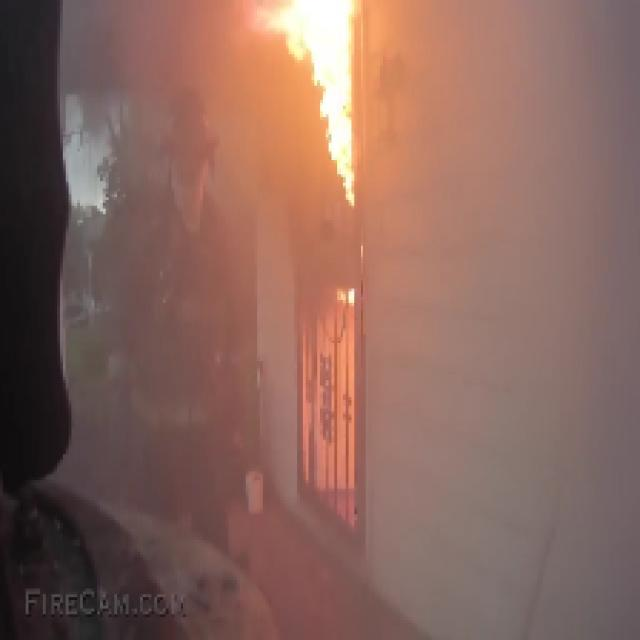Fire: (234, 2, 383, 318)
Smoke: (65, 5, 637, 640)
